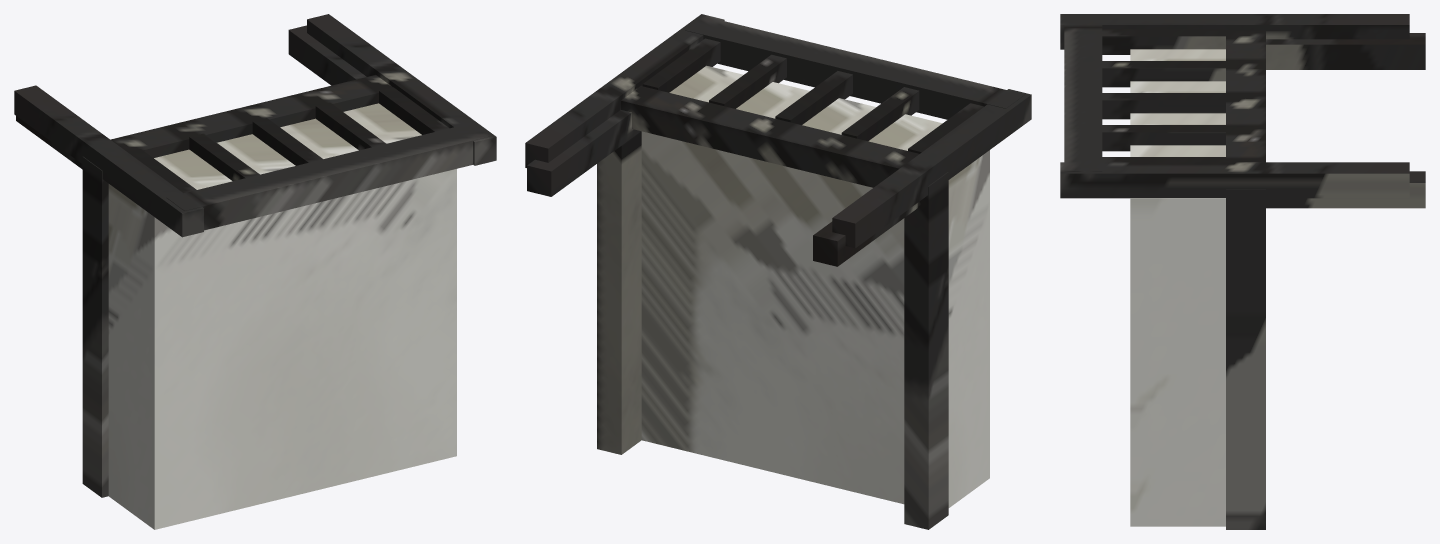
The model's file is pz_bed_bedding_01_fancy_0_1.obj.
3 renders of one model, left to right at view 1: azimuth 30°, elevation 25°; view 2: azimuth 150°, elevation 25°; view 3: azimuth 270°, elevation 25°, orthographic. The views are drawn at different scales.
Visible parts, largest first — view 1: root; view 2: root; view 3: root.
Boxes of the visible parts, left/top/right/bottom form: root: left=14, top=14, right=496, bottom=529; root: left=525, top=14, right=1031, bottom=529; root: left=1060, top=14, right=1425, bottom=529.
Bounding box in the file's own units: 0.95 × 0.985 × 0.915.
1 material, 1 textured.
